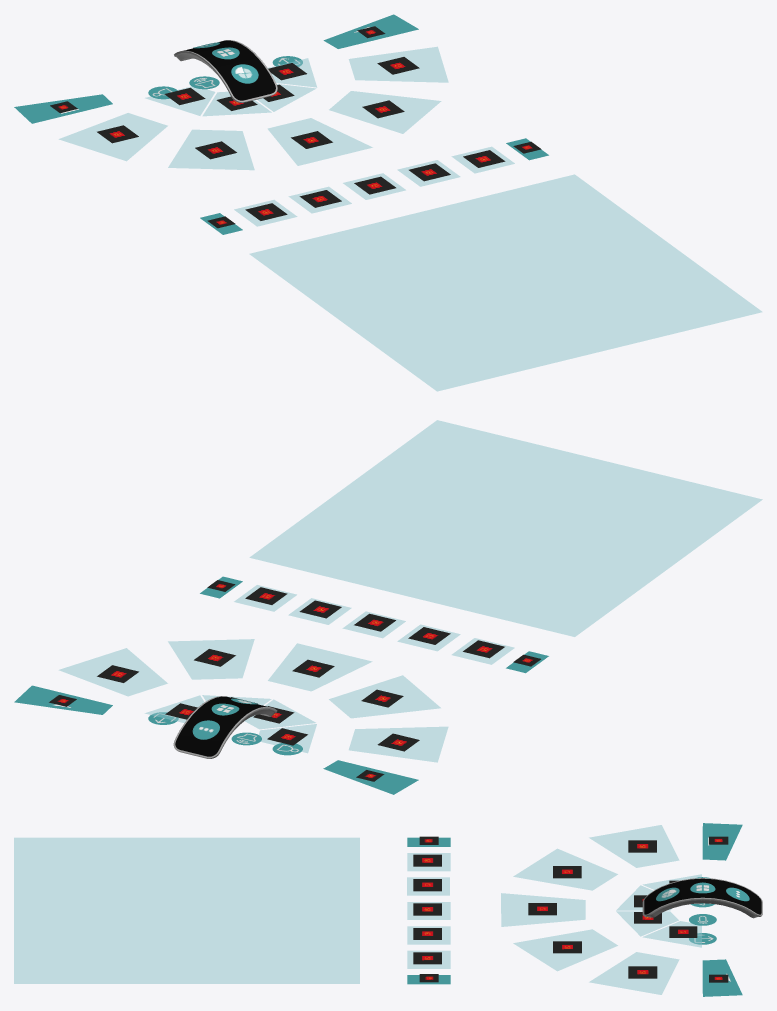
File: UMI3D_watch_v2.fbx
3 renders of one model, top to bottom at view 1: azimuth 30°, elevation 25°; view 2: azimuth 150°, elevation 25°; view 3: azimuth 270°, elevation 25°, orthographic. The views are drawn at different scales.
Parts seen in each view (by area): view 1: settings_panel_1, w1, w2, menu_watch_1, w0; view 2: settings_panel_1, w1, w2, menu_watch_1, w0; view 3: settings_panel_1, w1, w2, menu_watch_1, w0, w1_ico_5, w1_ico_1, w1_ico_2, w1_ico_3, w1_ico_4, w2_ico_1, w2_ico_2 (+4 smaller).
Part boxes in pixels (x1,y1,x2,y2): settings_panel_1: (249,174,761,391); w1: (14,14,448,170); w2: (200,138,548,234); menu_watch_1: (174,40,277,102); w0: (145,58,316,116); settings_panel_1: (249,420,762,636); w1: (14,639,448,794); w2: (200,576,548,673); menu_watch_1: (173,696,277,758); w0: (145,695,316,753); settings_panel_1: (14,837,359,983); w1: (501,823,742,996); w2: (407,837,450,984); menu_watch_1: (642,878,762,918); w0: (616,874,701,947); w1_ico_5: (628,966,657,978); w1_ico_1: (628,840,656,852); w1_ico_2: (553,866,581,878); w1_ico_3: (528,903,556,915); w1_ico_4: (553,941,581,953); w2_ico_1: (413,854,441,866); w2_ico_2: (413,879,441,891).
Size of the model in its own units: 21.36 by 1.34 by 38.89.
7 materials, 4 textured.
